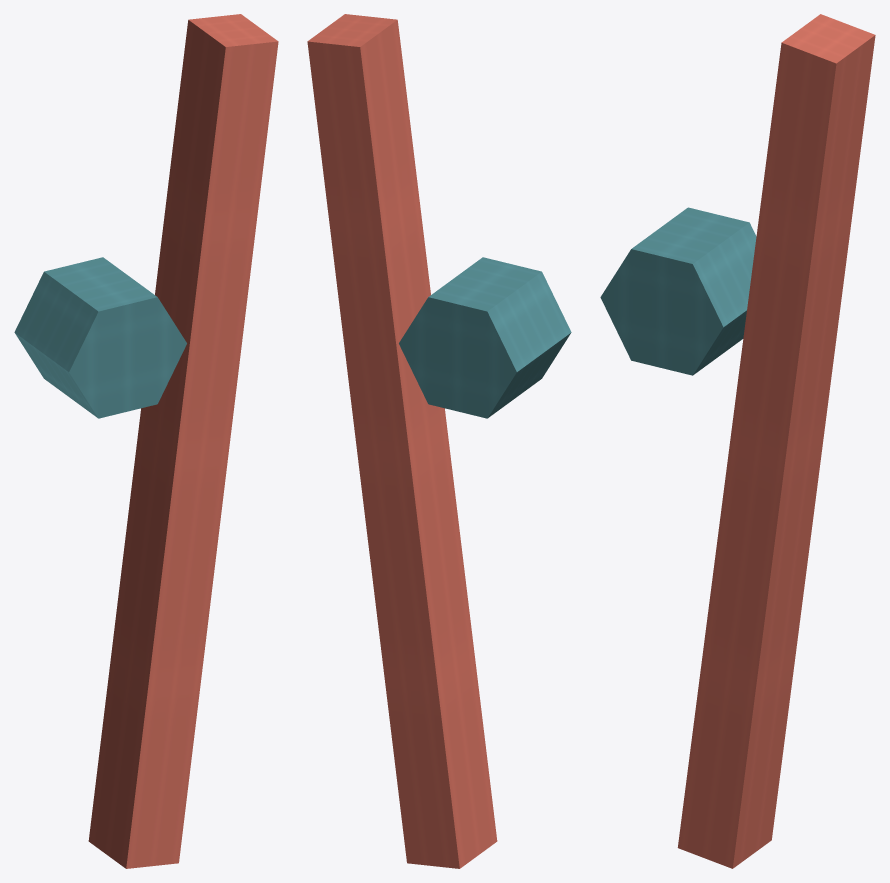
Rendered from atlas100-s080-a05.lod2.glb.
The picture shows the model from 3 angles, left to right: view 1: azimuth 30°, elevation 25°; view 2: azimuth 150°, elevation 25°; view 3: azimuth 330°, elevation 25°; orthographic projection. The views are drawn at different scales.
Parts seen in each view (by area): view 1: atlas100-s080-a05:part-001, atlas100-s080-a05:part-002; view 2: atlas100-s080-a05:part-001, atlas100-s080-a05:part-002; view 3: atlas100-s080-a05:part-001, atlas100-s080-a05:part-002.
Part boxes in pixels (x1,y1,x2,y2): atlas100-s080-a05:part-001: [88, 14, 278, 868]; atlas100-s080-a05:part-002: [14, 257, 186, 418]; atlas100-s080-a05:part-001: [307, 14, 497, 868]; atlas100-s080-a05:part-002: [399, 257, 571, 418]; atlas100-s080-a05:part-001: [677, 14, 875, 868]; atlas100-s080-a05:part-002: [600, 207, 756, 375].
Size of the model in its own units: 0.2014 by 0.7102 by 0.0874.
Materials: 2 (2 with a texture image).
